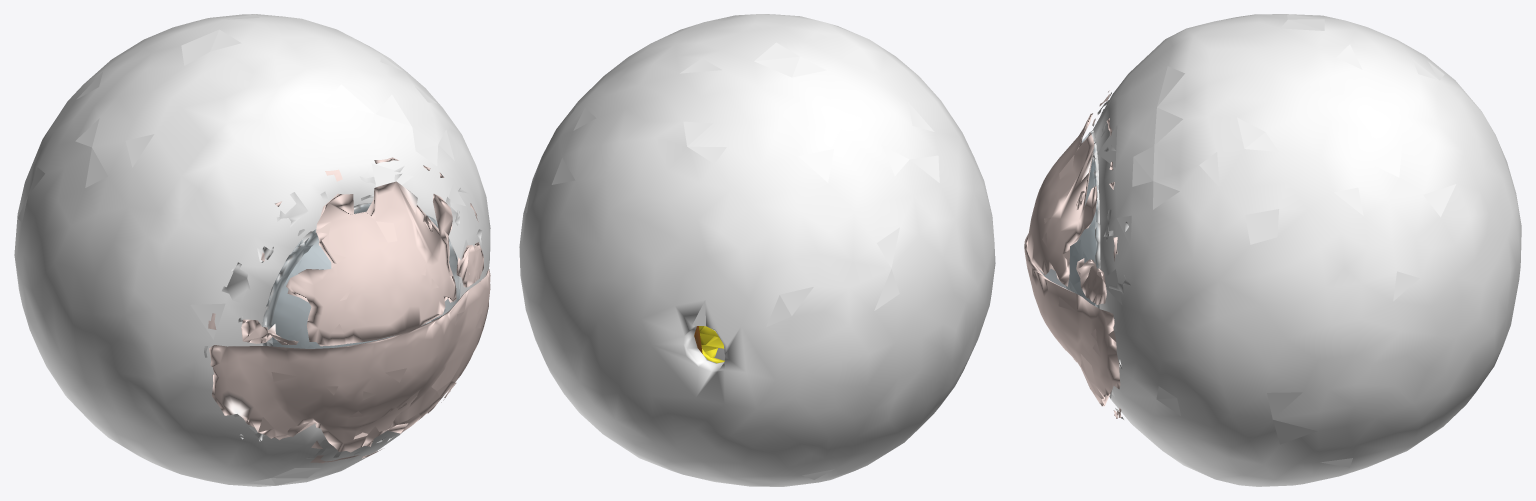
File: 3d-vh-m-eye-l-20.fbx
3 views of the same model, side by side, from view 1: azimuth 30°, elevation 25°; view 2: azimuth 150°, elevation 25°; view 3: azimuth 270°, elevation 25° (orthographic).
Visible parts, largest first — view 1: VH_M_sclera_L, VH_M_palpebral_conjunctiva_of_lower_eyelid_L, VH_M_palpebral_conjunctiva_of_upper_eyelid_L, VH_M_cornea_L, VH_M_aqueous_humor_L, VH_M_bulbar_conjunctiva_L, VH_M_corneo_scleral_junction_L; view 2: VH_M_sclera_L; view 3: VH_M_sclera_L, VH_M_palpebral_conjunctiva_of_upper_eyelid_L, VH_M_palpebral_conjunctiva_of_lower_eyelid_L, VH_M_cornea_L, VH_M_aqueous_humor_L, VH_M_corneo_scleral_junction_L.
Part boxes in pixels (x1=…): VH_M_sclera_L: x1=14, y1=14, x2=490, y2=486; VH_M_palpebral_conjunctiva_of_lower_eyelid_L: x1=209, y1=269, x2=490, y2=463; VH_M_palpebral_conjunctiva_of_upper_eyelid_L: x1=208, y1=157, x2=483, y2=346; VH_M_cornea_L: x1=262, y1=203, x2=460, y2=348; VH_M_aqueous_humor_L: x1=272, y1=241, x2=425, y2=348; VH_M_bulbar_conjunctiva_L: x1=204, y1=166, x2=482, y2=458; VH_M_corneo_scleral_junction_L: x1=262, y1=203, x2=459, y2=346; VH_M_sclera_L: x1=519, y1=14, x2=995, y2=486; VH_M_sclera_L: x1=1092, y1=14, x2=1521, y2=486; VH_M_palpebral_conjunctiva_of_upper_eyelid_L: x1=1027, y1=90, x2=1117, y2=304; VH_M_palpebral_conjunctiva_of_lower_eyelid_L: x1=1024, y1=233, x2=1121, y2=418; VH_M_cornea_L: x1=1039, y1=132, x2=1098, y2=307; VH_M_aqueous_humor_L: x1=1066, y1=169, x2=1096, y2=305; VH_M_corneo_scleral_junction_L: x1=1088, y1=130, x2=1100, y2=308.
Bounding box in the file's own units: 2.45 × 2.44 × 2.58.
